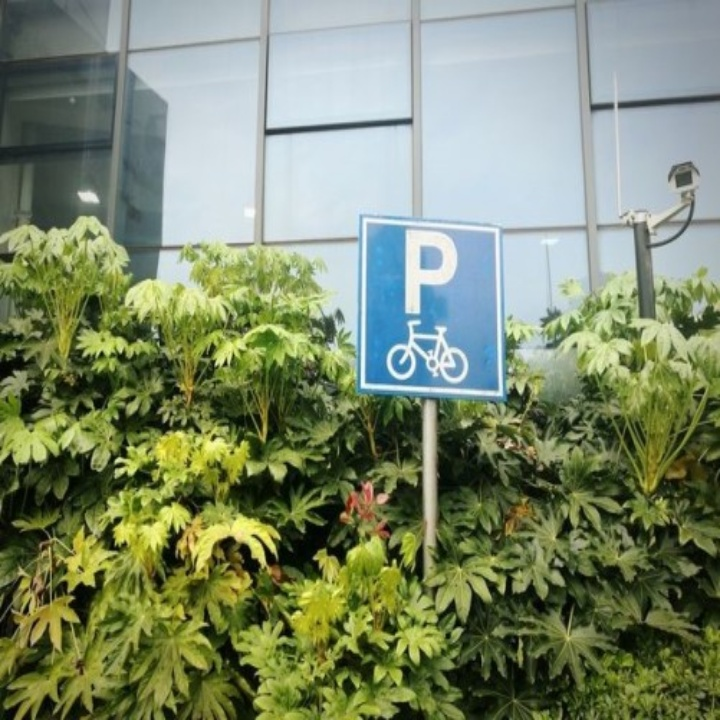bicycle: (380, 318, 476, 386)
parking: (396, 220, 462, 319)
